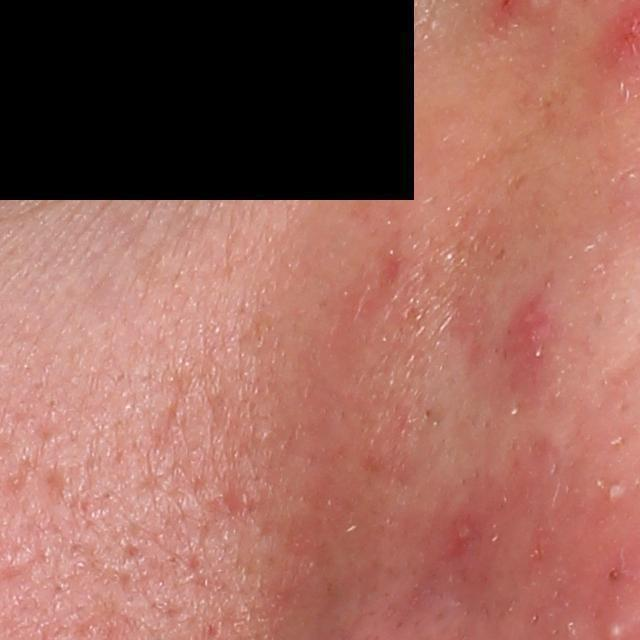comedo: (603, 564, 623, 582)
pustule: (599, 476, 628, 507)
